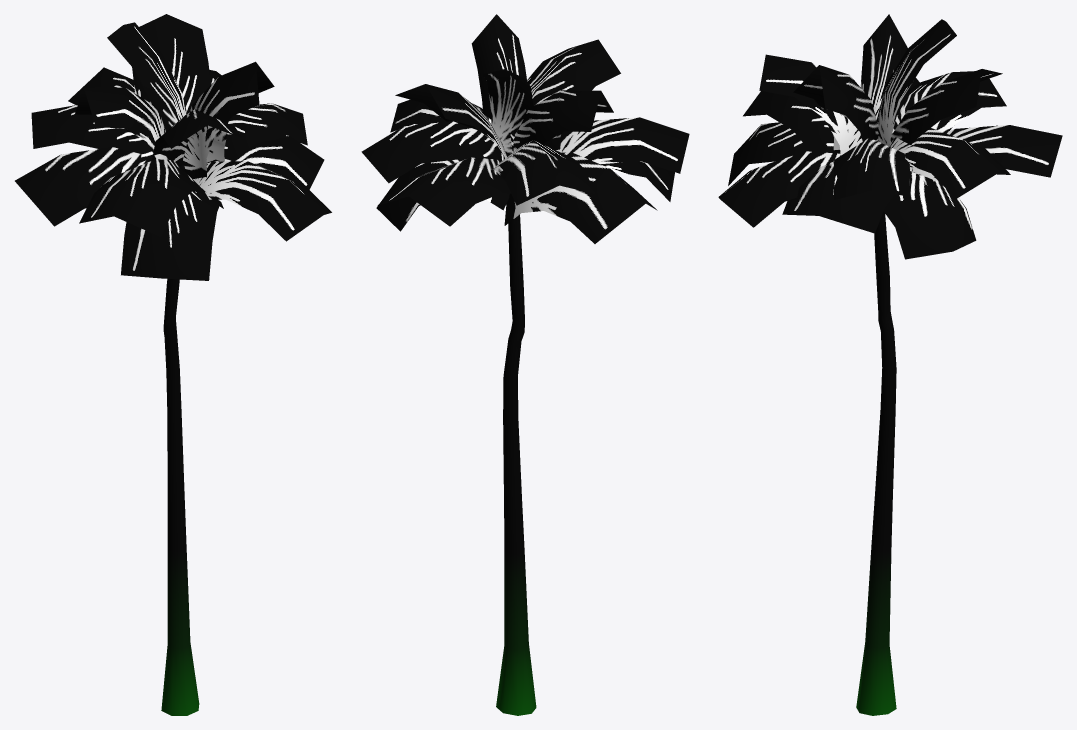
The model's file is P_CoconutPalm05.obj.
The picture shows the model from 3 angles, left to right: view 1: azimuth 30°, elevation 25°; view 2: azimuth 150°, elevation 25°; view 3: azimuth 270°, elevation 25°; orthographic projection.
Size of the model in its own units: 6.38 by 15.15 by 6.99.
